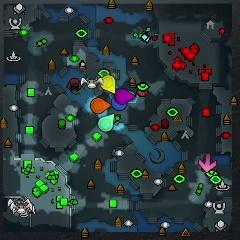p1: (111, 96, 127, 110)
p2: (98, 114, 114, 131)
p3: (115, 89, 133, 104)
p4: (100, 75, 116, 94)
p5: (90, 98, 111, 114)
x1: (199, 153, 216, 172)
